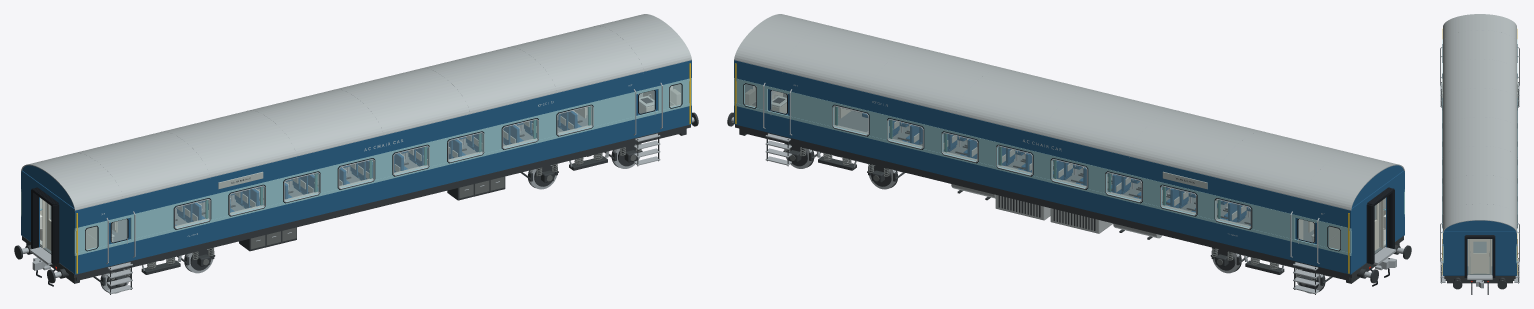
File: ICF_CC.fbx
3 views of the same model, side by side, from view 1: azimuth 30°, elevation 25°; view 2: azimuth 150°, elevation 25°; view 3: azimuth 270°, elevation 25° (orthographic). The views are drawn at different scales.
Visible parts, largest first — view 1: Pressed steel roof shell, Lower blue bodyside, Upper blue letterboard, Longitudinal underframe solebar, Structural coach floor, Cyan horizontal window band, Cyan horizontal window band.001, Finished lino floor, Coach end wall, Window zone pier.002, Window zone pier.010, Window sealed glass.006 (+14 smaller); view 2: Pressed steel roof shell, Lower blue bodyside.001, Upper blue letterboard.001, Longitudinal underframe solebar.001, Structural coach floor, Cyan horizontal window band.002, Cyan horizontal window band.003, Finished lino floor, Window zone pier.014, Window zone pier.022, Coach end wall.001, Window sealed glass.014 (+16 smaller); view 3: Pressed steel roof shell, Coach end wall.002, Coach end wall.003, Curved end roof cap.001, End top header.001, Vestibule lower door.001, Finished lino floor, Buffer beam, Cyan horizontal window band.001, Cyan horizontal window band.003, Gangway bellows pleat.026, Gangway bellows pleat.027 (+9 smaller).
Boxes of the visible parts, x1,y1,x2,y2 form: Pressed steel roof shell: (21,14,691,211); Lower blue bodyside: (74,105,691,274); Upper blue letterboard: (74,60,691,229); Longitudinal underframe solebar: (75,128,686,280); Structural coach floor: (22,124,690,277); Cyan horizontal window band: (74,103,691,255); Cyan horizontal window band.001: (74,78,691,231); Finished lino floor: (40,106,591,253); Coach end wall: (57,198,74,273); Window zone pier.002: (130,207,174,239); Window zone pier.010: (592,94,635,126); Window sealed glass.006: (503,120,537,147); Pressed steel roof shell: (734,14,1404,210); Lower blue bodyside.001: (734,105,1351,274); Upper blue letterboard.001: (734,60,1351,230); Longitudinal underframe solebar.001: (739,128,1350,280); Structural coach floor: (735,124,1403,277); Cyan horizontal window band.002: (734,103,1351,255); Cyan horizontal window band.003: (734,78,1351,231); Finished lino floor: (834,106,1385,253); Window zone pier.014: (1251,207,1295,239); Window zone pier.022: (790,94,833,126); Coach end wall.001: (1351,206,1366,273); Window sealed glass.014: (888,120,922,147); Pressed steel roof shell: (1443,14,1516,233); Coach end wall.002: (1444,232,1467,275); Coach end wall.003: (1492,232,1515,275); Curved end roof cap.001: (1444,220,1515,231); End top header.001: (1444,231,1515,236); Vestibule lower door.001: (1472,253,1487,273); Finished lino floor: (1467,241,1492,274); Buffer beam: (1447,279,1512,283); Cyan horizontal window band.001: (1442,39,1443,246); Cyan horizontal window band.003: (1516,39,1517,246); Gangway bellows pleat.026: (1464,238,1467,277); Gangway bellows pleat.027: (1492,238,1495,277).
Bounding box in the file's own units: 350 × 2246 × 405.
